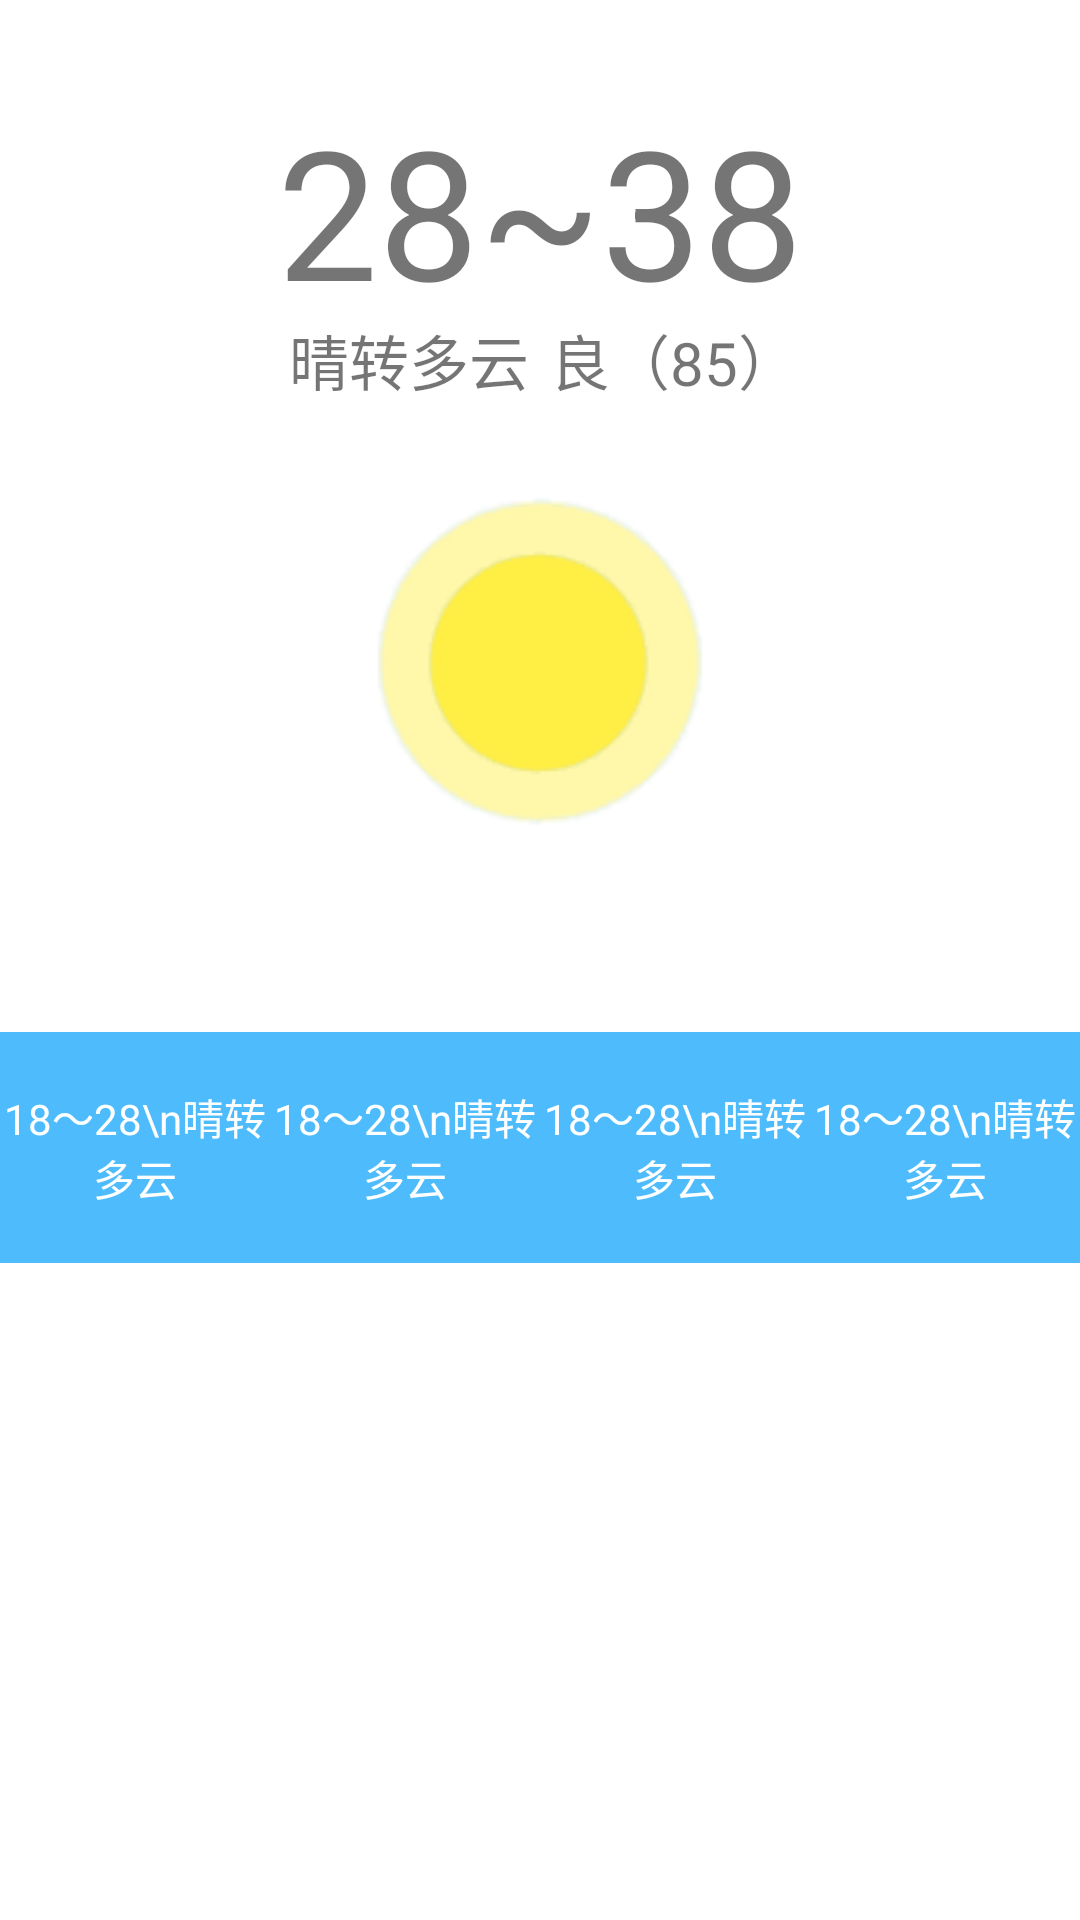

Icons on this 1080px×1920px Android screen, each with the point to tap as (x,y):
sun: (540,661)
